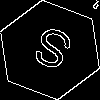S: (25, 25, 77, 80)
